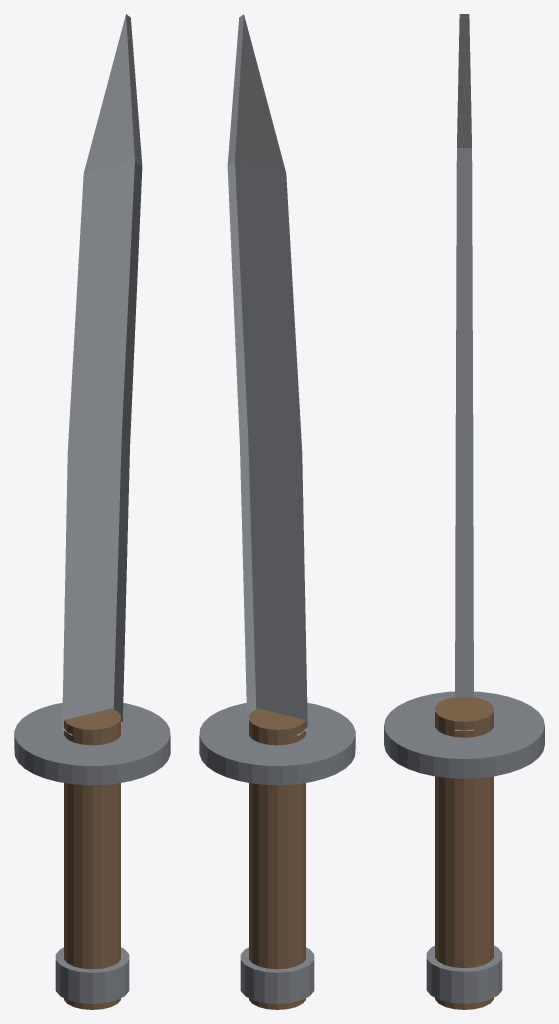
File: weathered_katana.glb
3 renders of one model, left to right at view 1: azimuth 30°, elevation 25°; view 2: azimuth 150°, elevation 25°; view 3: azimuth 270°, elevation 25°, orthographic. The views are drawn at different scales.
Visible parts, largest first — view 1: sword_0_0, sword_0_2, sword_0_1, sword_0_3; view 2: sword_0_0, sword_0_2, sword_0_1, sword_0_3; view 3: sword_0_2, sword_0_0, sword_0_1, sword_0_3.
Part boxes in pixels (x1,y1,x2,y2): sword_0_0: [62, 14, 142, 735]; sword_0_2: [64, 708, 120, 1009]; sword_0_1: [14, 703, 170, 785]; sword_0_3: [55, 947, 129, 1003]; sword_0_0: [227, 14, 307, 735]; sword_0_2: [249, 708, 305, 1009]; sword_0_1: [199, 703, 355, 785]; sword_0_3: [240, 947, 314, 1003]; sword_0_2: [435, 696, 493, 1009]; sword_0_0: [455, 14, 473, 730]; sword_0_1: [384, 691, 544, 778]; sword_0_3: [426, 945, 502, 1003].
Bounding box in the file's own units: 0.5916 × 4.06 × 0.5916.
